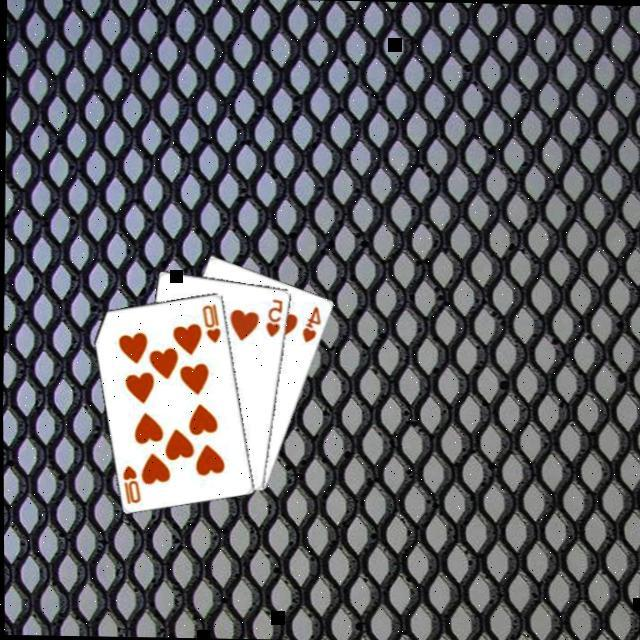10H: (196, 299, 221, 343), (116, 461, 141, 505)
4H: (296, 302, 321, 344)
5H: (260, 294, 283, 338)
